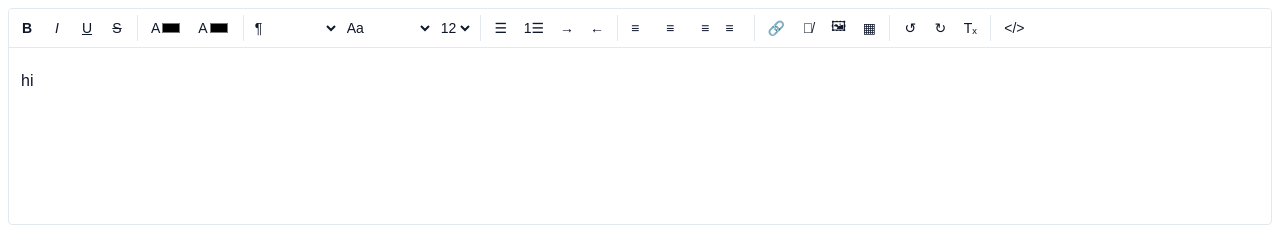
Scenario: HtmlEditor › source mode edits round-trip through the toggle
The width and height of the screenshot is (1280, 242).
Click the button named "Source" at (1014, 28), box left=997, top=14, right=1032, bottom=42
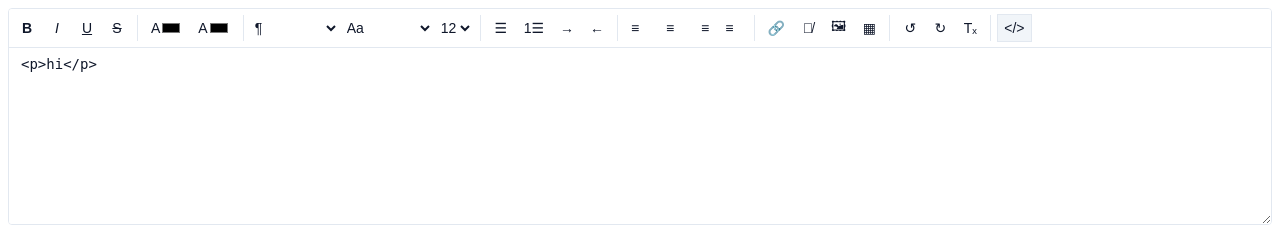
Expected: the text box named "HTML editor source" holds "<p>hi</p>"
Replace the text in the text box named "HTML editor source" with "<p>bye</p>" at (640, 136), box left=9, top=48, right=1271, bottom=224
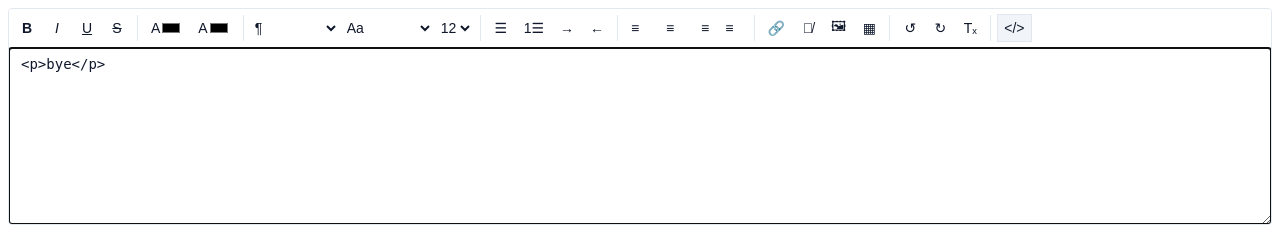
Click the button named "Source" at (1014, 28), box left=997, top=14, right=1032, bottom=42
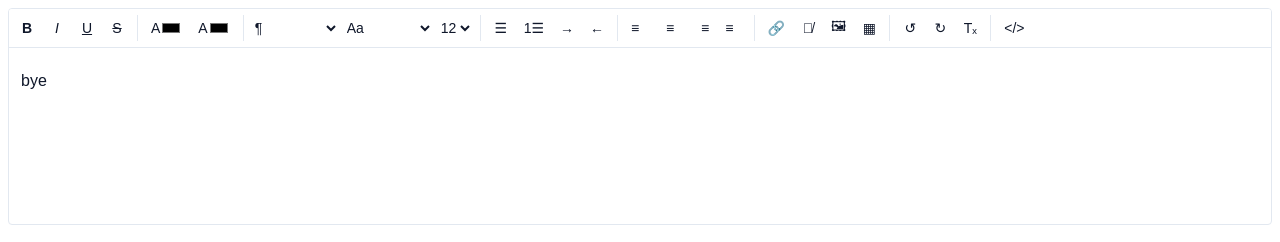
Expected: the field named "HTML editor" reads "bye", left=21, top=72, right=47, bottom=89
